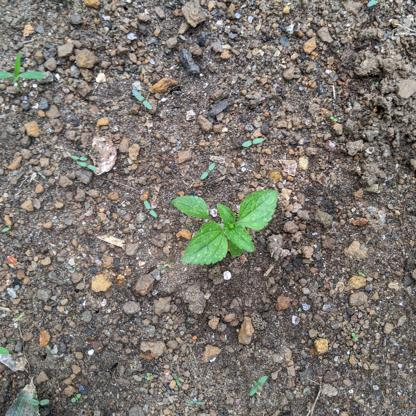weed: (172, 188, 283, 267), (1, 53, 51, 85)
